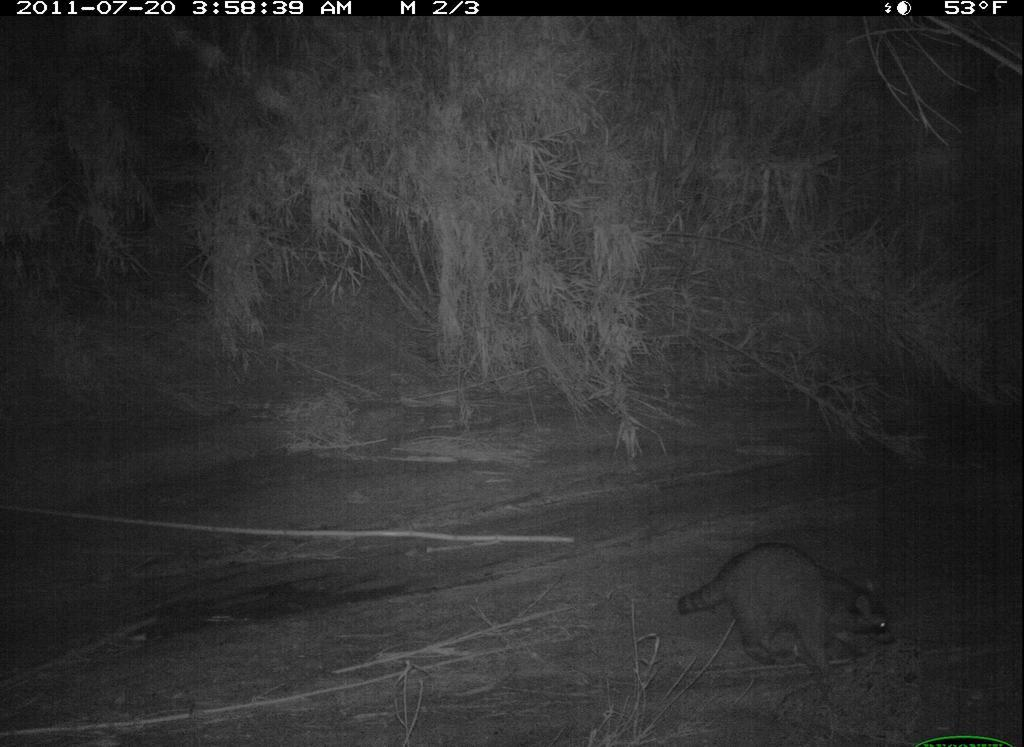raccoon: (673, 533, 906, 703)
